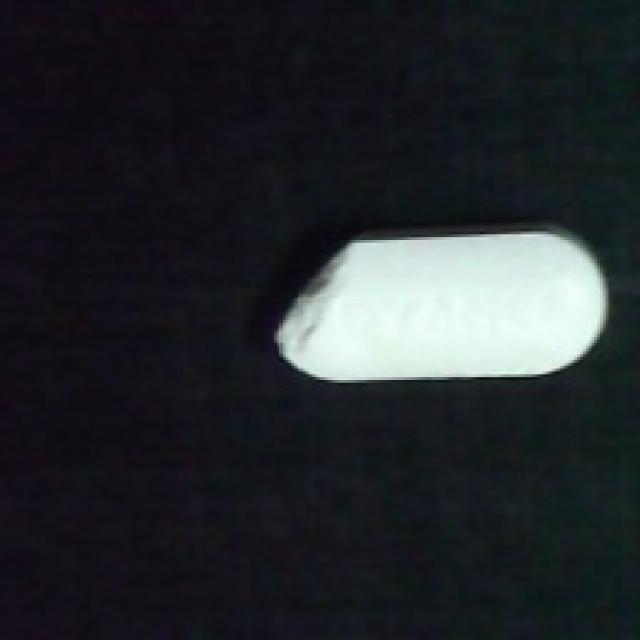defected: (263, 214, 614, 386)
